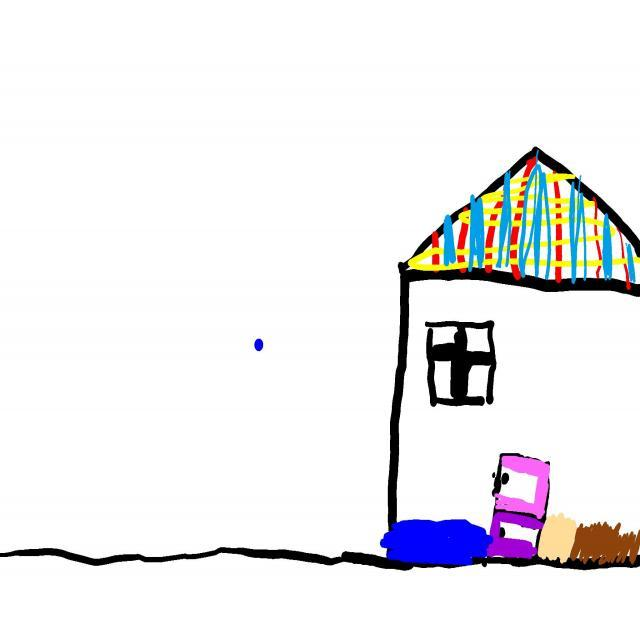door: (489, 454, 551, 560)
house: (382, 148, 640, 567)
roof: (402, 147, 640, 296)
wall: (399, 268, 640, 568)
window: (428, 322, 497, 405)
